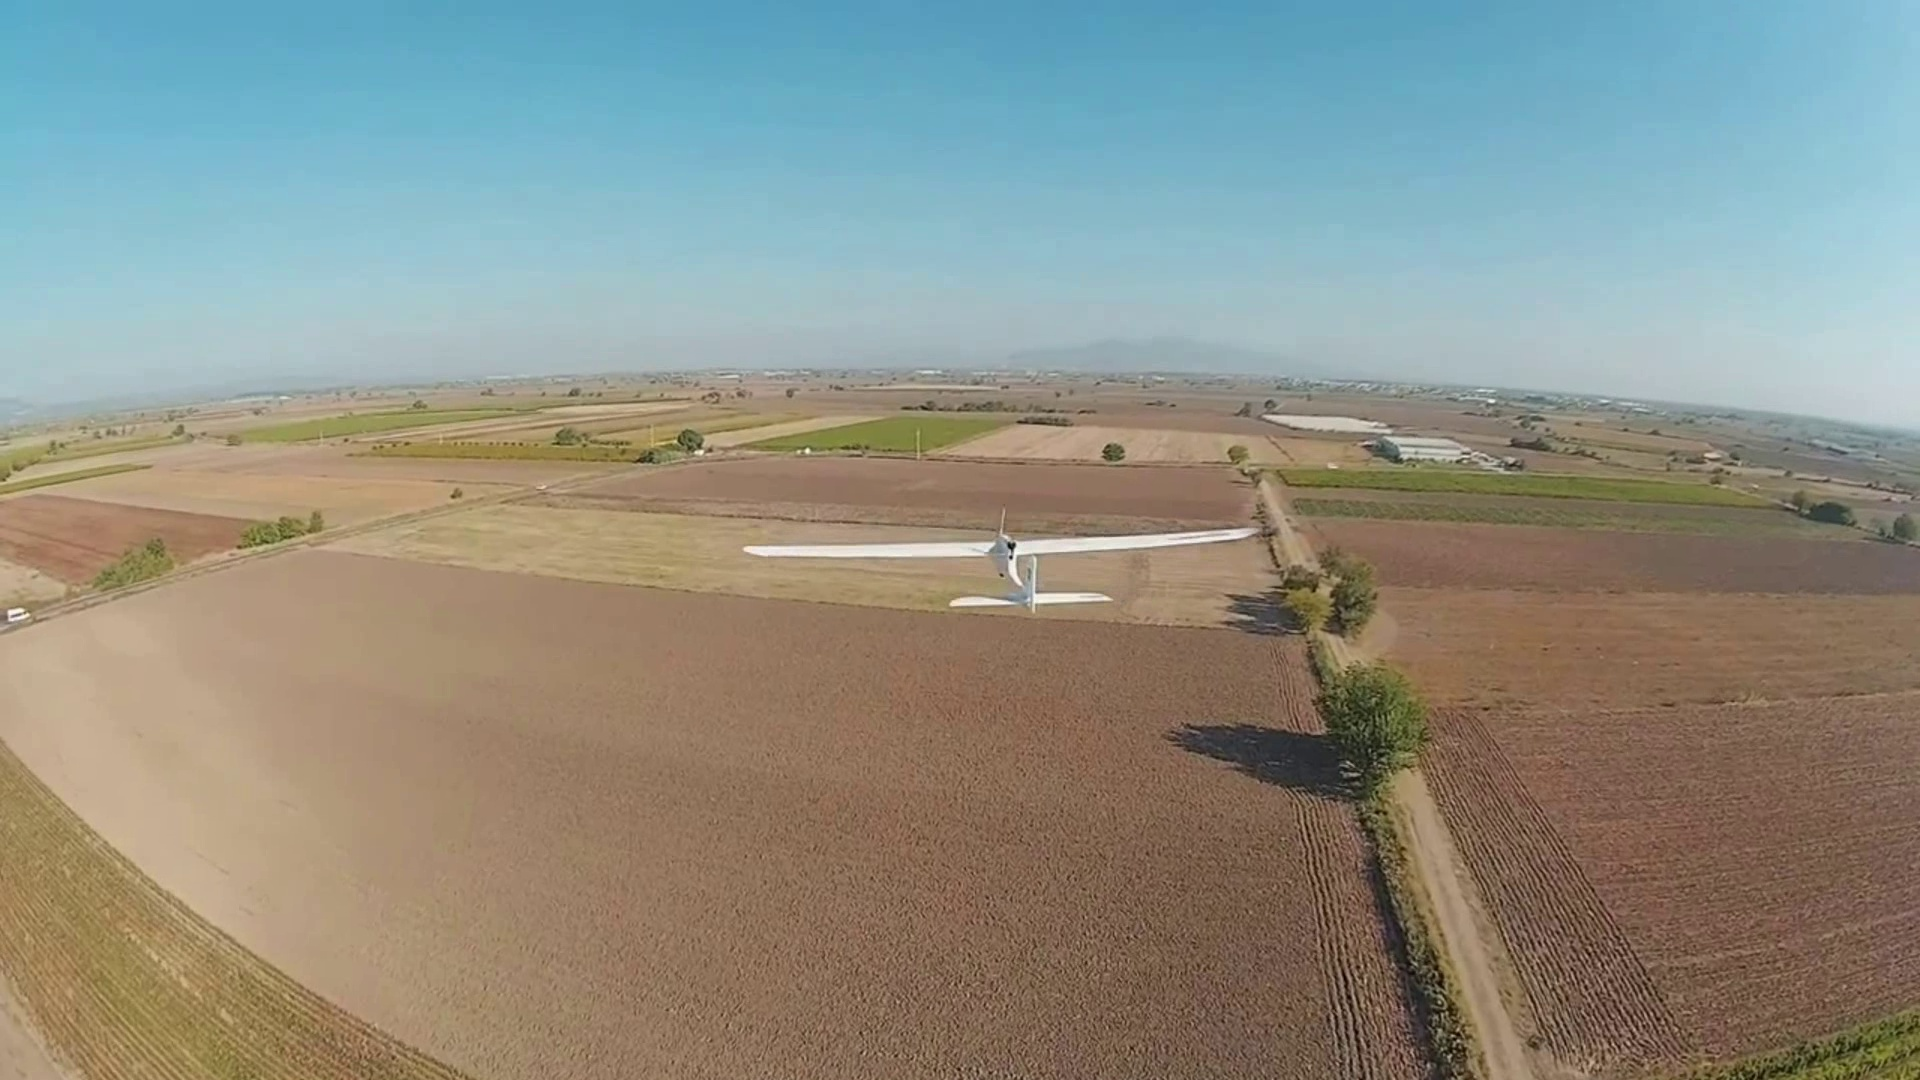airplane: (735, 501, 1264, 614)
